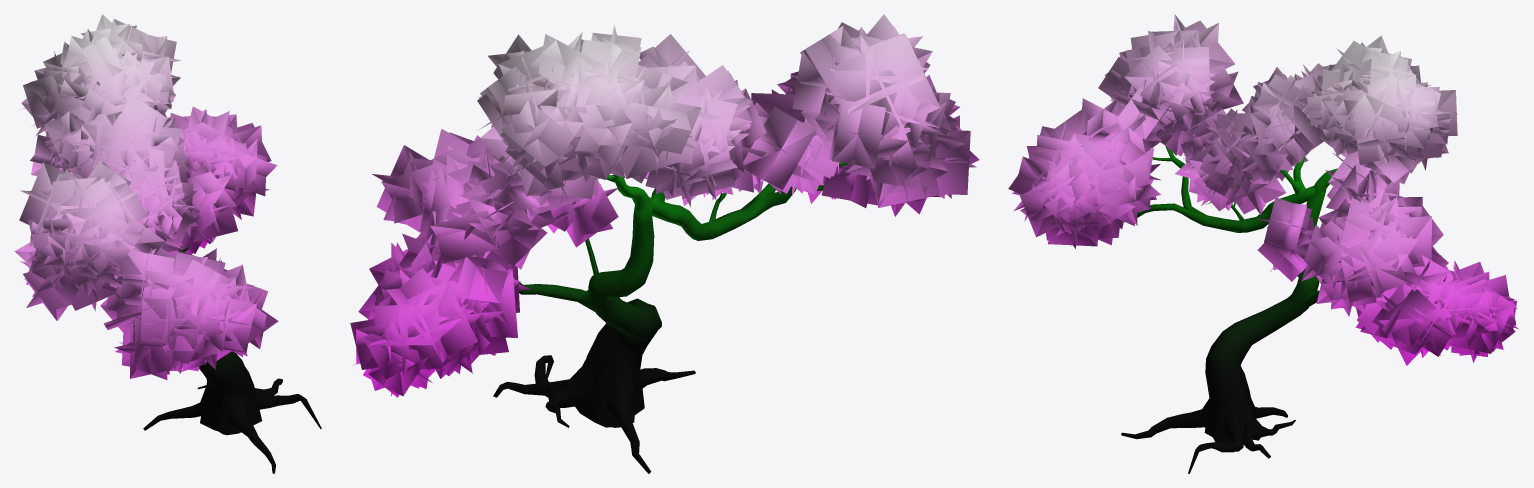
File: TSI_Blossom_Tree_02A.fbx
The picture shows the model from 3 angles, left to right: view 1: azimuth 30°, elevation 25°; view 2: azimuth 150°, elevation 25°; view 3: azimuth 270°, elevation 25°; orthographic projection. The views are drawn at different scales.
Visible parts, largest first — view 1: TSI_Blossom_Tree_02A_LOD0; view 2: TSI_Blossom_Tree_02A_LOD0; view 3: TSI_Blossom_Tree_02A_LOD0.
Part boxes in pixels (left/top/right/bottom): TSI_Blossom_Tree_02A_LOD0: left=14, top=14, right=321, bottom=473; TSI_Blossom_Tree_02A_LOD0: left=350, top=14, right=979, bottom=473; TSI_Blossom_Tree_02A_LOD0: left=1008, top=14, right=1518, bottom=473.
Size of what is drawn, in the model's own units: 1038 by 1067 by 1321.
